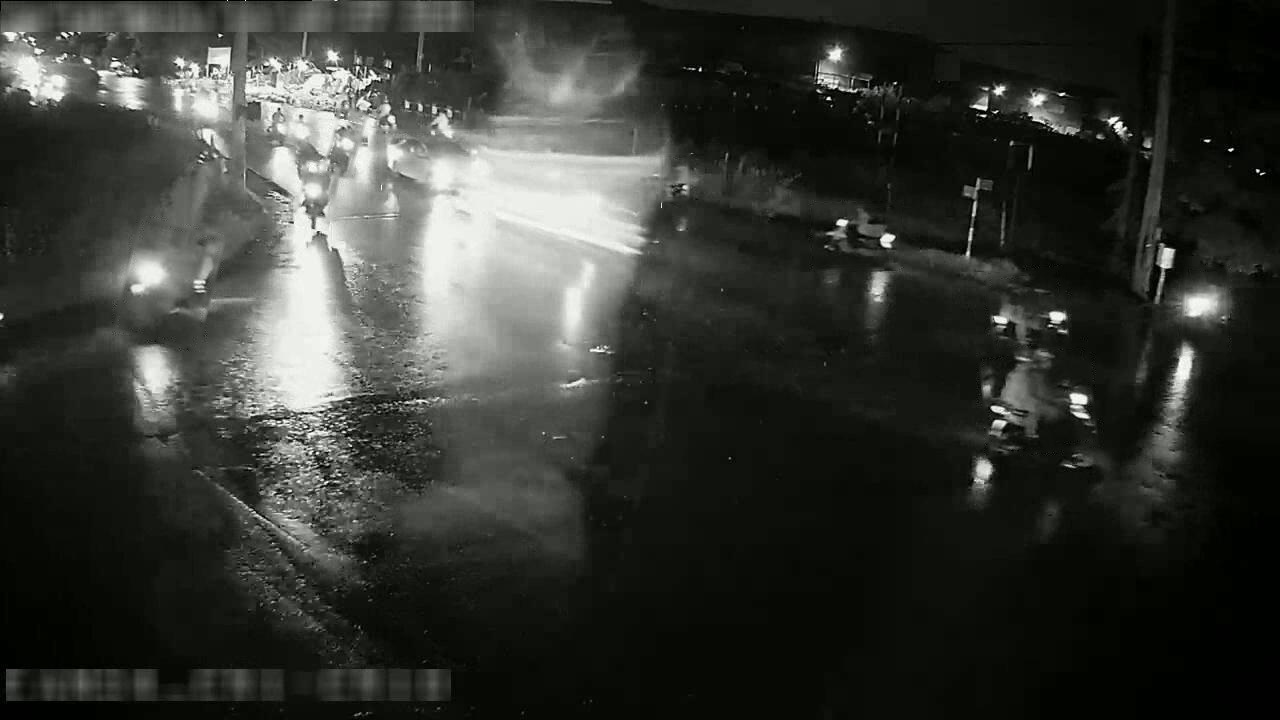Car: (386, 134, 487, 192)
Motorcyclist: (988, 348, 1095, 465), (118, 229, 223, 341), (990, 276, 1069, 349), (816, 206, 897, 260), (1177, 270, 1230, 348), (300, 161, 336, 232), (328, 121, 359, 176), (660, 157, 692, 207)
